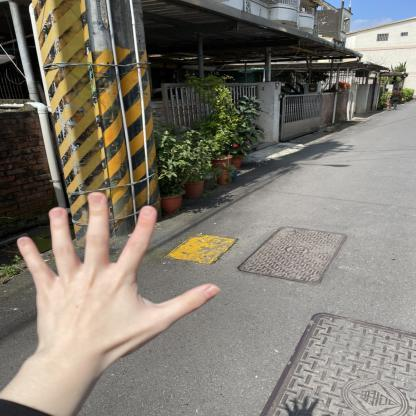bare_hand: (0, 188, 231, 390)
